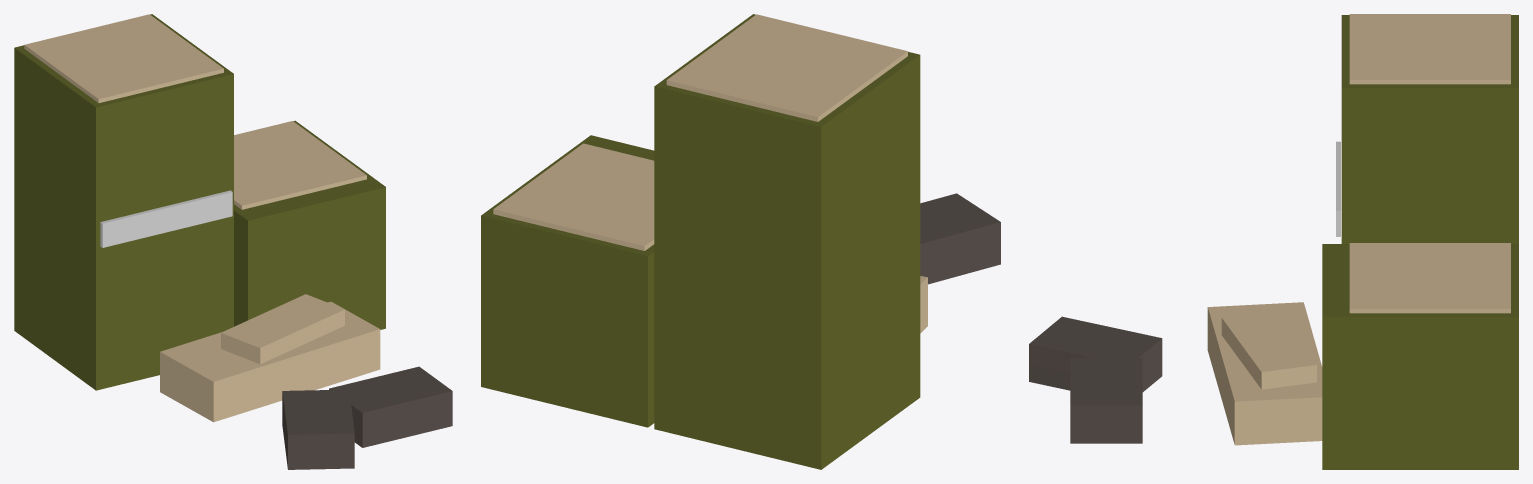
The model's file is SM_HescoCorto2_v1_Geotextil_e1_Danado_LOD1.fbx.
The picture shows the model from 3 angles, left to right: view 1: azimuth 30°, elevation 25°; view 2: azimuth 150°, elevation 25°; view 3: azimuth 270°, elevation 25°; orthographic projection. The views are drawn at different scales.
Parts seen in each view (by area): view 1: SM_hesco_piezas_v65_LOD1; view 2: SM_hesco_piezas_v65_LOD1; view 3: SM_hesco_piezas_v65_LOD1.
Boxes of the visible parts, left/top/right/bottom form: SM_hesco_piezas_v65_LOD1: left=14, top=14, right=452, bottom=469; SM_hesco_piezas_v65_LOD1: left=481, top=14, right=1000, bottom=469; SM_hesco_piezas_v65_LOD1: left=1029, top=14, right=1518, bottom=469.
Size of the model in its own units: 2.18 by 2.13 by 3.04.
